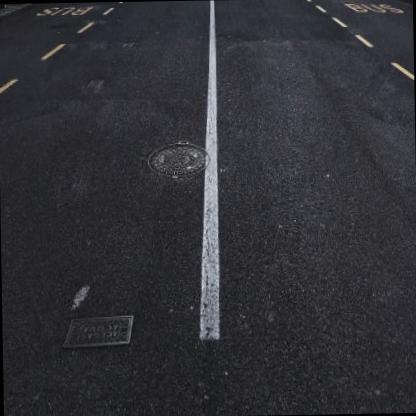manholes: (136, 114, 230, 190)
